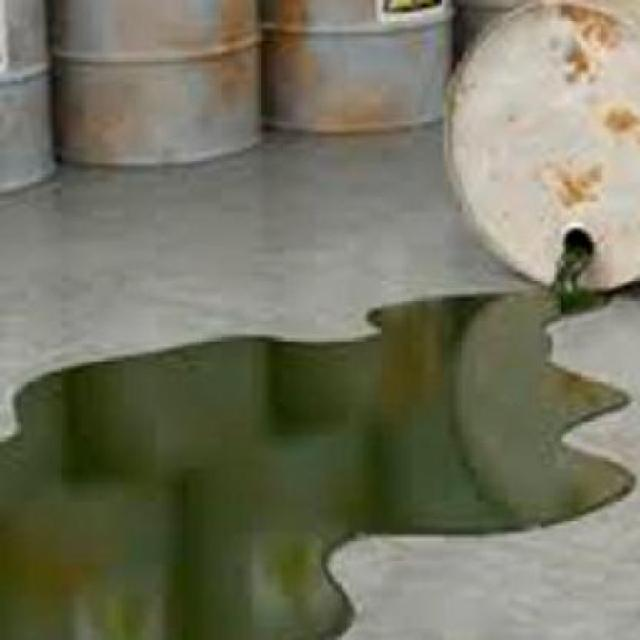spillage: (0, 292, 640, 640)
